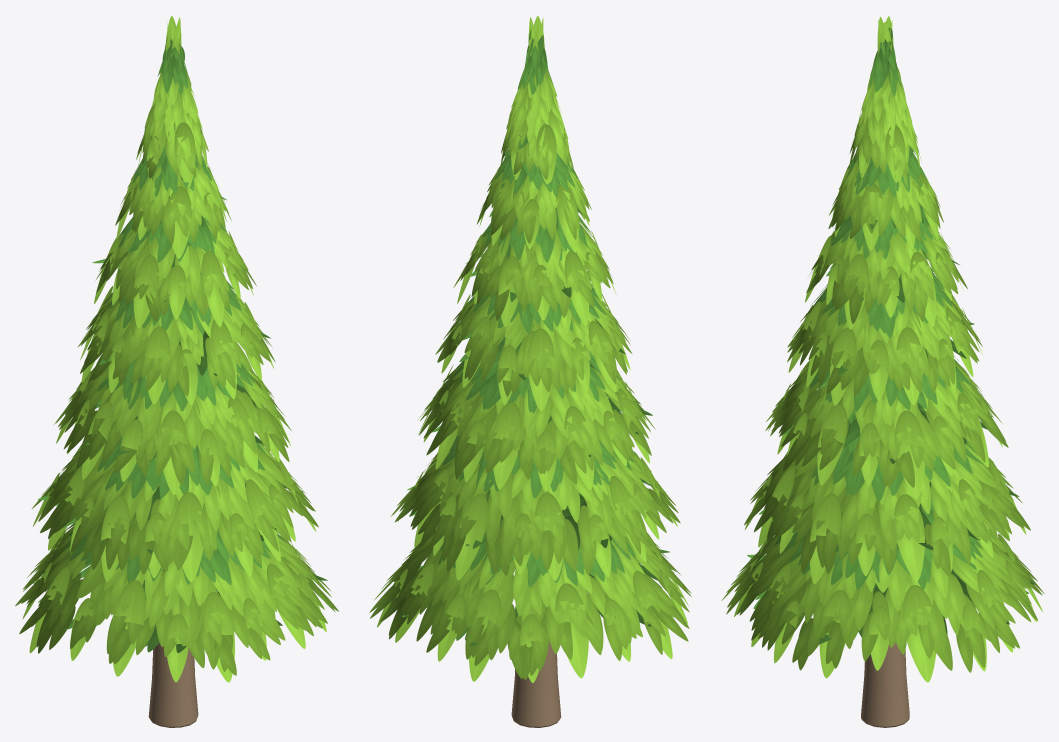
File: tree_tall_deep.glb
3 renders of one model, left to right at view 1: azimuth 30°, elevation 25°; view 2: azimuth 150°, elevation 25°; view 3: azimuth 270°, elevation 25°, orthographic.
Visible parts, largest first — view 1: foliage, trunk; view 2: foliage, trunk; view 3: foliage, trunk.
Part boxes in pixels (bbox=[...]): foliage: bbox=[15, 16, 338, 682]; trunk: bbox=[148, 643, 198, 727]; foliage: bbox=[369, 16, 691, 682]; trunk: bbox=[511, 640, 561, 727]; foliage: bbox=[721, 16, 1044, 682]; trunk: bbox=[861, 642, 909, 727].
Bounding box in the file's own units: 3.22 × 7.67 × 3.22.
Materials: 3 (2 with a texture image).
